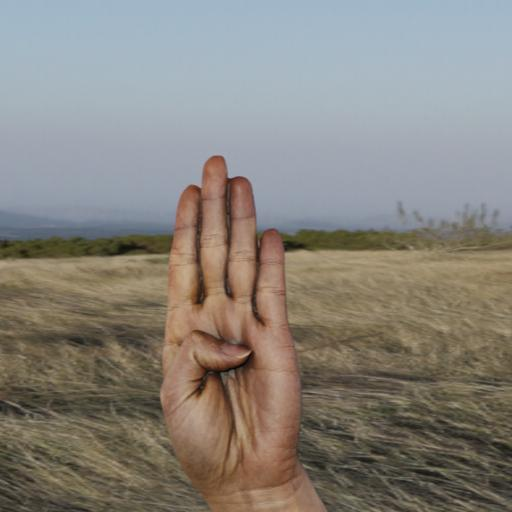B: (152, 150, 308, 512)
